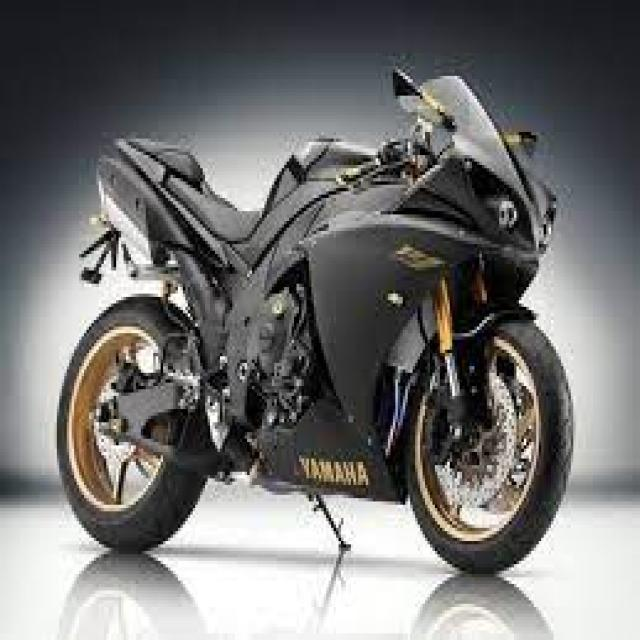MOTORCYCLE: (63, 71, 563, 577)
